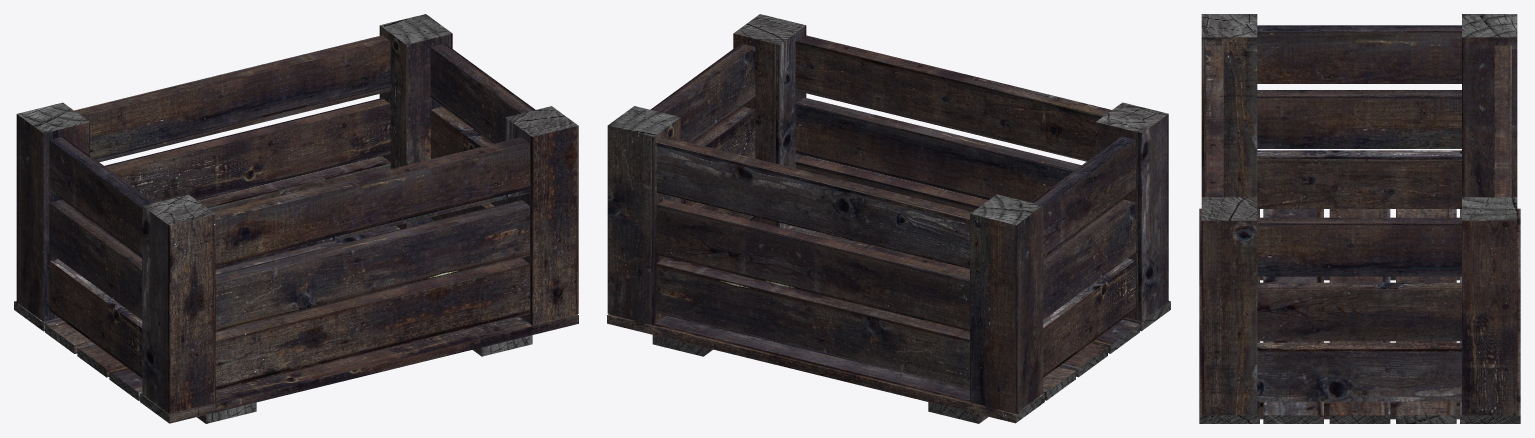
The model's file is fruit_crate.fbx.
3 renders of one model, left to right at view 1: azimuth 30°, elevation 25°; view 2: azimuth 150°, elevation 25°; view 3: azimuth 270°, elevation 25°, orthographic. The views are drawn at different scales.
Visible parts, largest first — view 1: Crate1_1; view 2: Crate1_1; view 3: Crate1_1.
Boxes of the visible parts, box(x1,y1,x2,y2) form: Crate1_1: box(14, 14, 578, 423); Crate1_1: box(607, 14, 1170, 423); Crate1_1: box(1199, 14, 1520, 423).
Bounding box in the file's own units: 0.8131 × 0.4018 × 0.5334.
